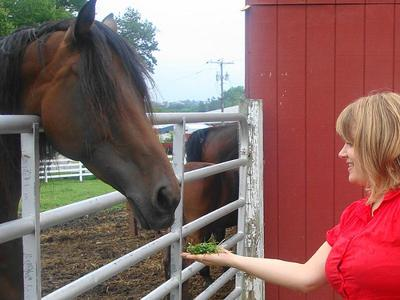person: (178, 92, 400, 300)
